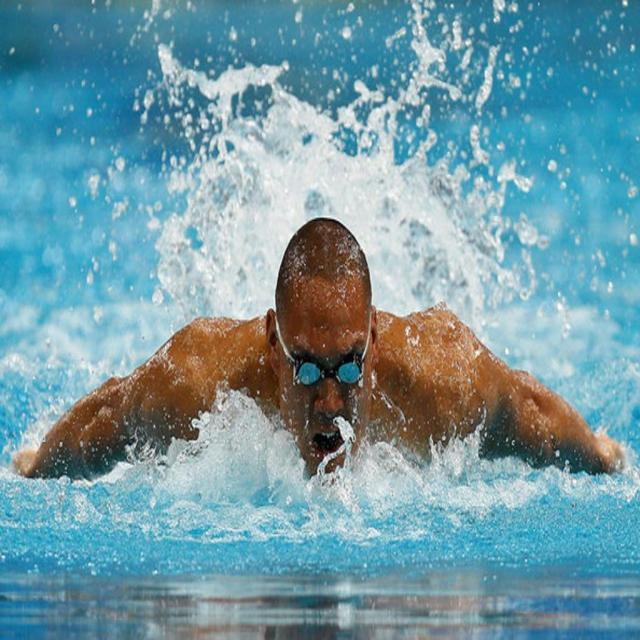nomask: (285, 308, 371, 490)
